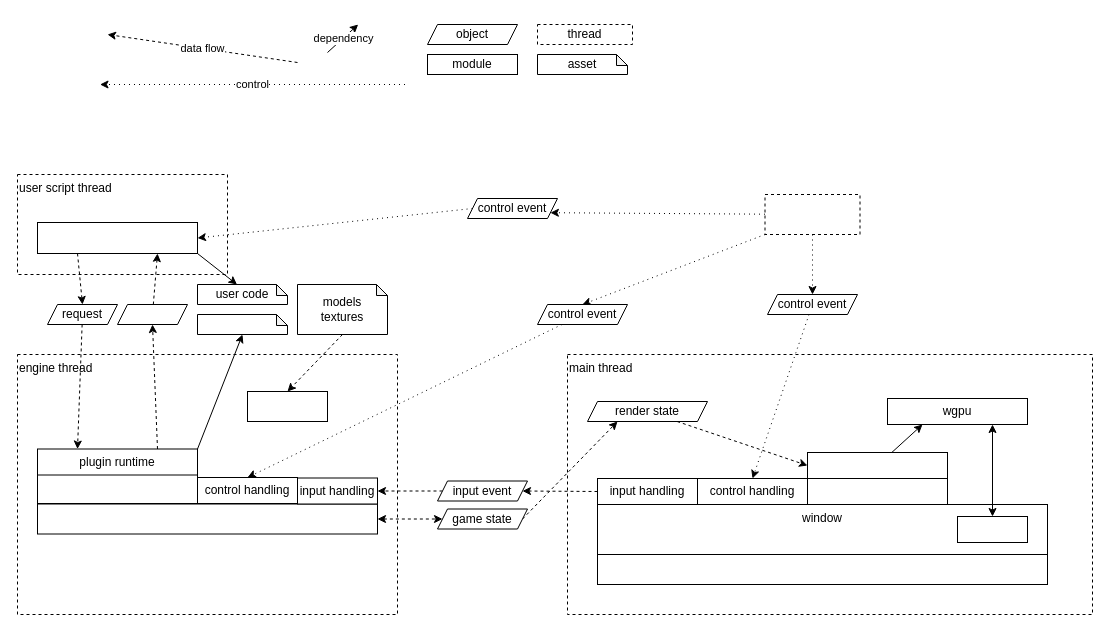
This 1110x632 diagram has some shape labels left out. The shapes that lost their labels are listed below. From the top down, each one's centre as x and y in pixels, then its label:
At point (812, 214): "control thread".
At point (117, 238): "runtime".
At point (152, 314): "response".
At point (242, 324): "plugin code".
At point (287, 406): "asset loader".
At point (877, 465): "rendering".
At point (117, 487): "plugin host".
At point (877, 491): "resize/redraw handling".
At point (207, 518): "game loop".
At point (992, 529): "surface".
At point (822, 569): "event loop".
